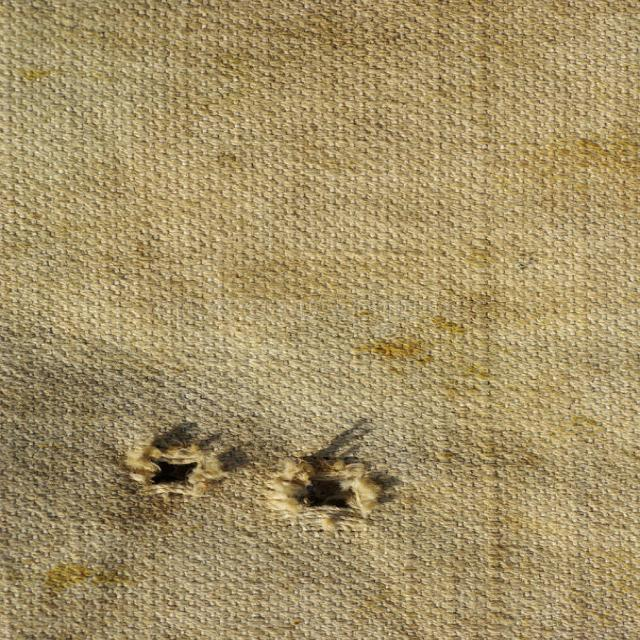Hole: (264, 458, 384, 531), (127, 444, 227, 497)
